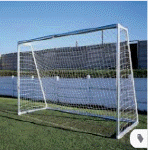goals: (13, 22, 142, 141)
